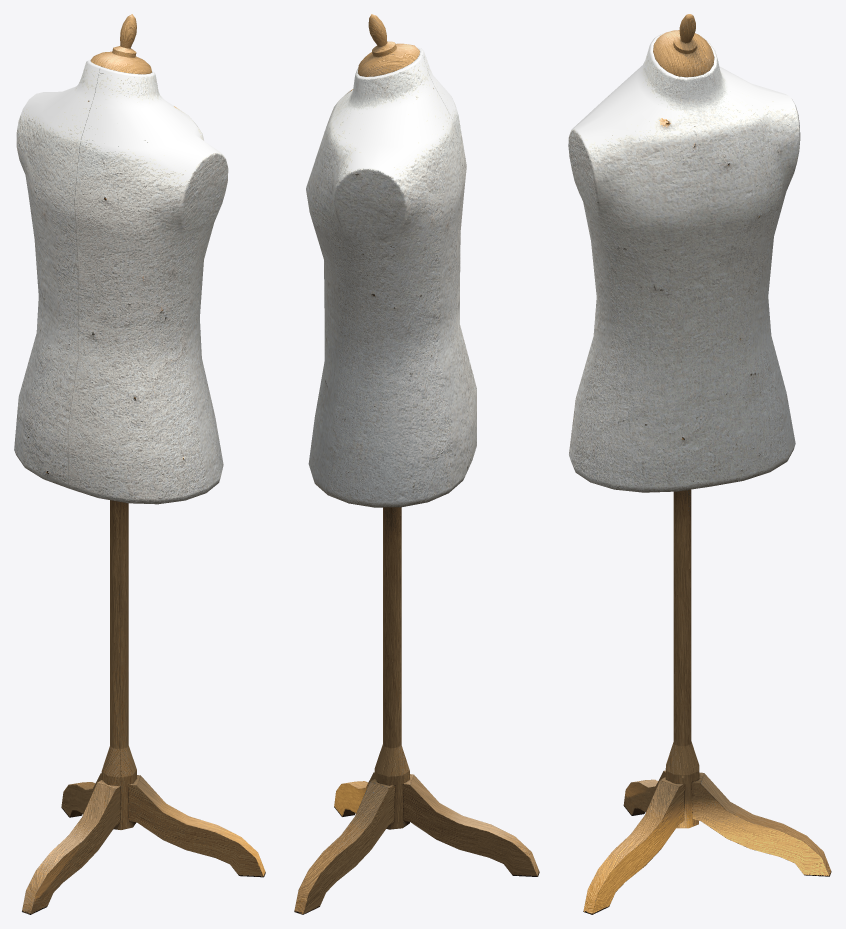
Rendered from Mannequin2 (0.798619 , 1.48564, 0.3).glb.
3 renders of one model, left to right at view 1: azimuth 30°, elevation 25°; view 2: azimuth 150°, elevation 25°; view 3: azimuth 270°, elevation 25°, orthographic.
Visible parts, largest first — view 1: DressMannequin.010; view 2: DressMannequin.010; view 3: DressMannequin.010.
Boxes of the visible parts, left/top/right/bottom form: DressMannequin.010: left=14, top=14, right=265, bottom=914; DressMannequin.010: left=294, top=14, right=539, bottom=914; DressMannequin.010: left=568, top=14, right=831, bottom=914.
Size of the model in its own units: 0.5138 by 1.86 by 0.5155.
Materials: 1 (1 with a texture image).
